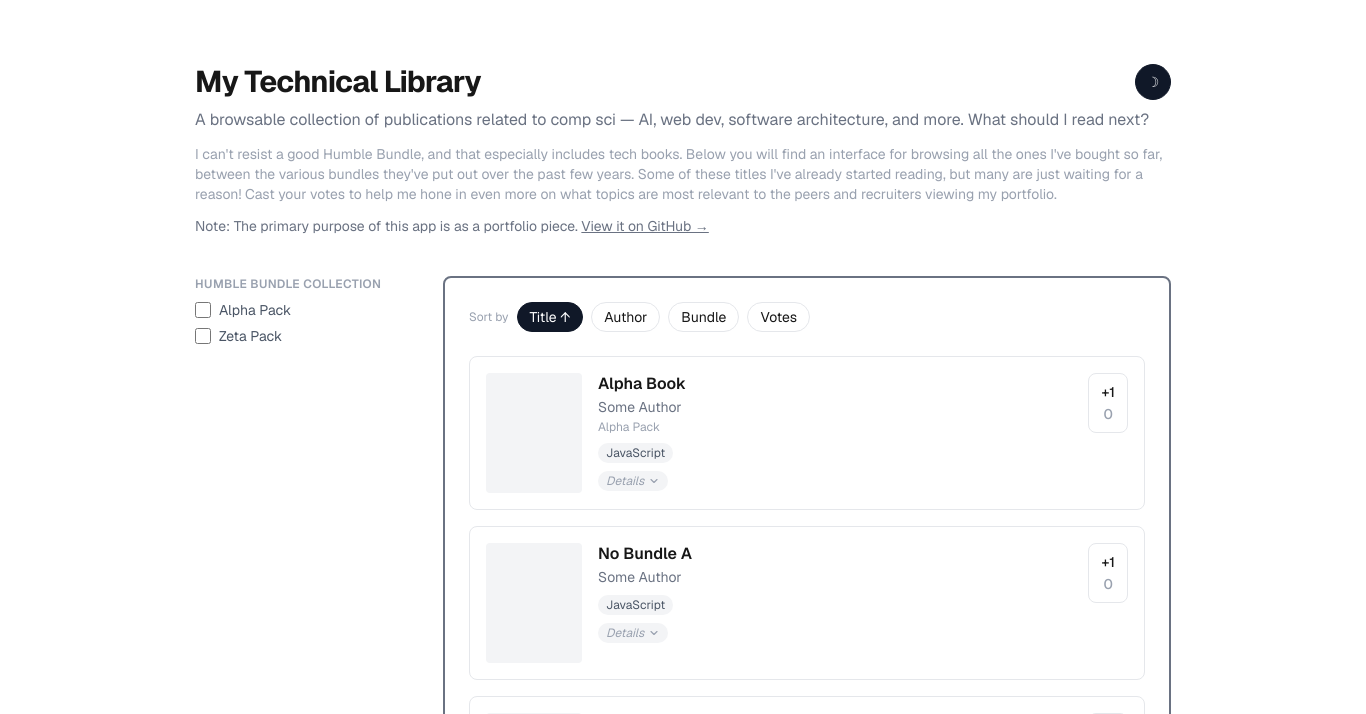
Test case: BookShelf › sorting › sorts books without a humbleBundle to the end when sorting by bundle
The width and height of the screenshot is (1366, 714).
Click the button "Bundle": [704, 317] box x1=668 y1=302 x2=739 y2=332
(page scrolled)
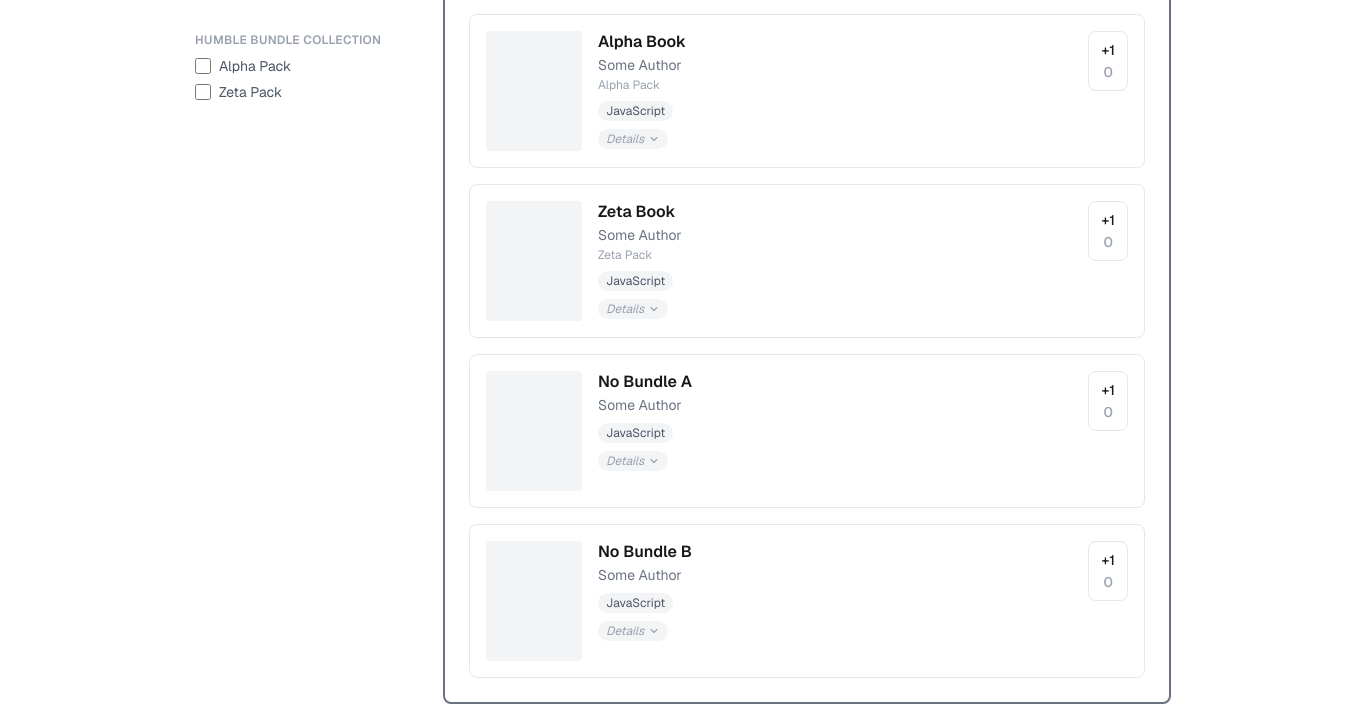
Expected: the list item "Alpha Book Some Author Alpha Pack JavaScript Details +1 0" is shown, x1=469 y1=14 x2=1145 y2=168
Expected: the list item "Zeta Book Some Author Zeta Pack JavaScript Details +1 0" is shown, x1=469 y1=184 x2=1145 y2=338
Expected: the list item "No Bundle B Some Author JavaScript Details +1 0" is shown, x1=469 y1=524 x2=1145 y2=678
